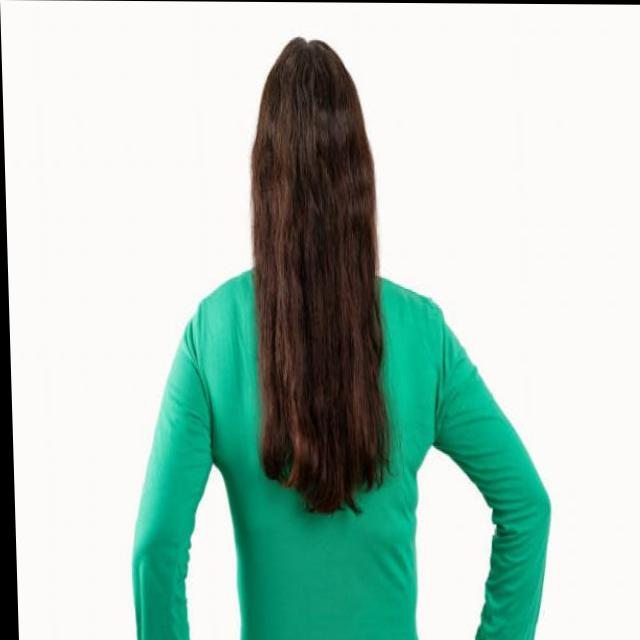no helmet: (248, 25, 376, 274)
